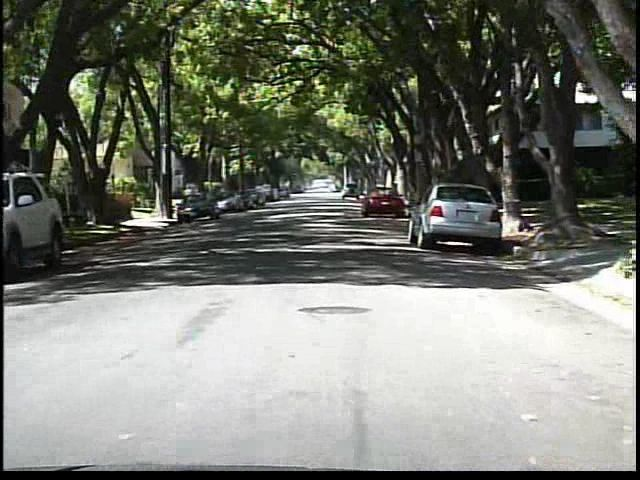person: (180, 181, 199, 215)
